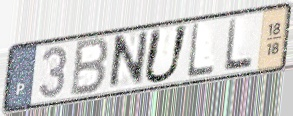3: (37, 44, 69, 102)
B: (68, 36, 112, 99)
L: (222, 17, 254, 74), (185, 21, 215, 81)
N: (105, 28, 151, 94)
U: (140, 23, 191, 86)
